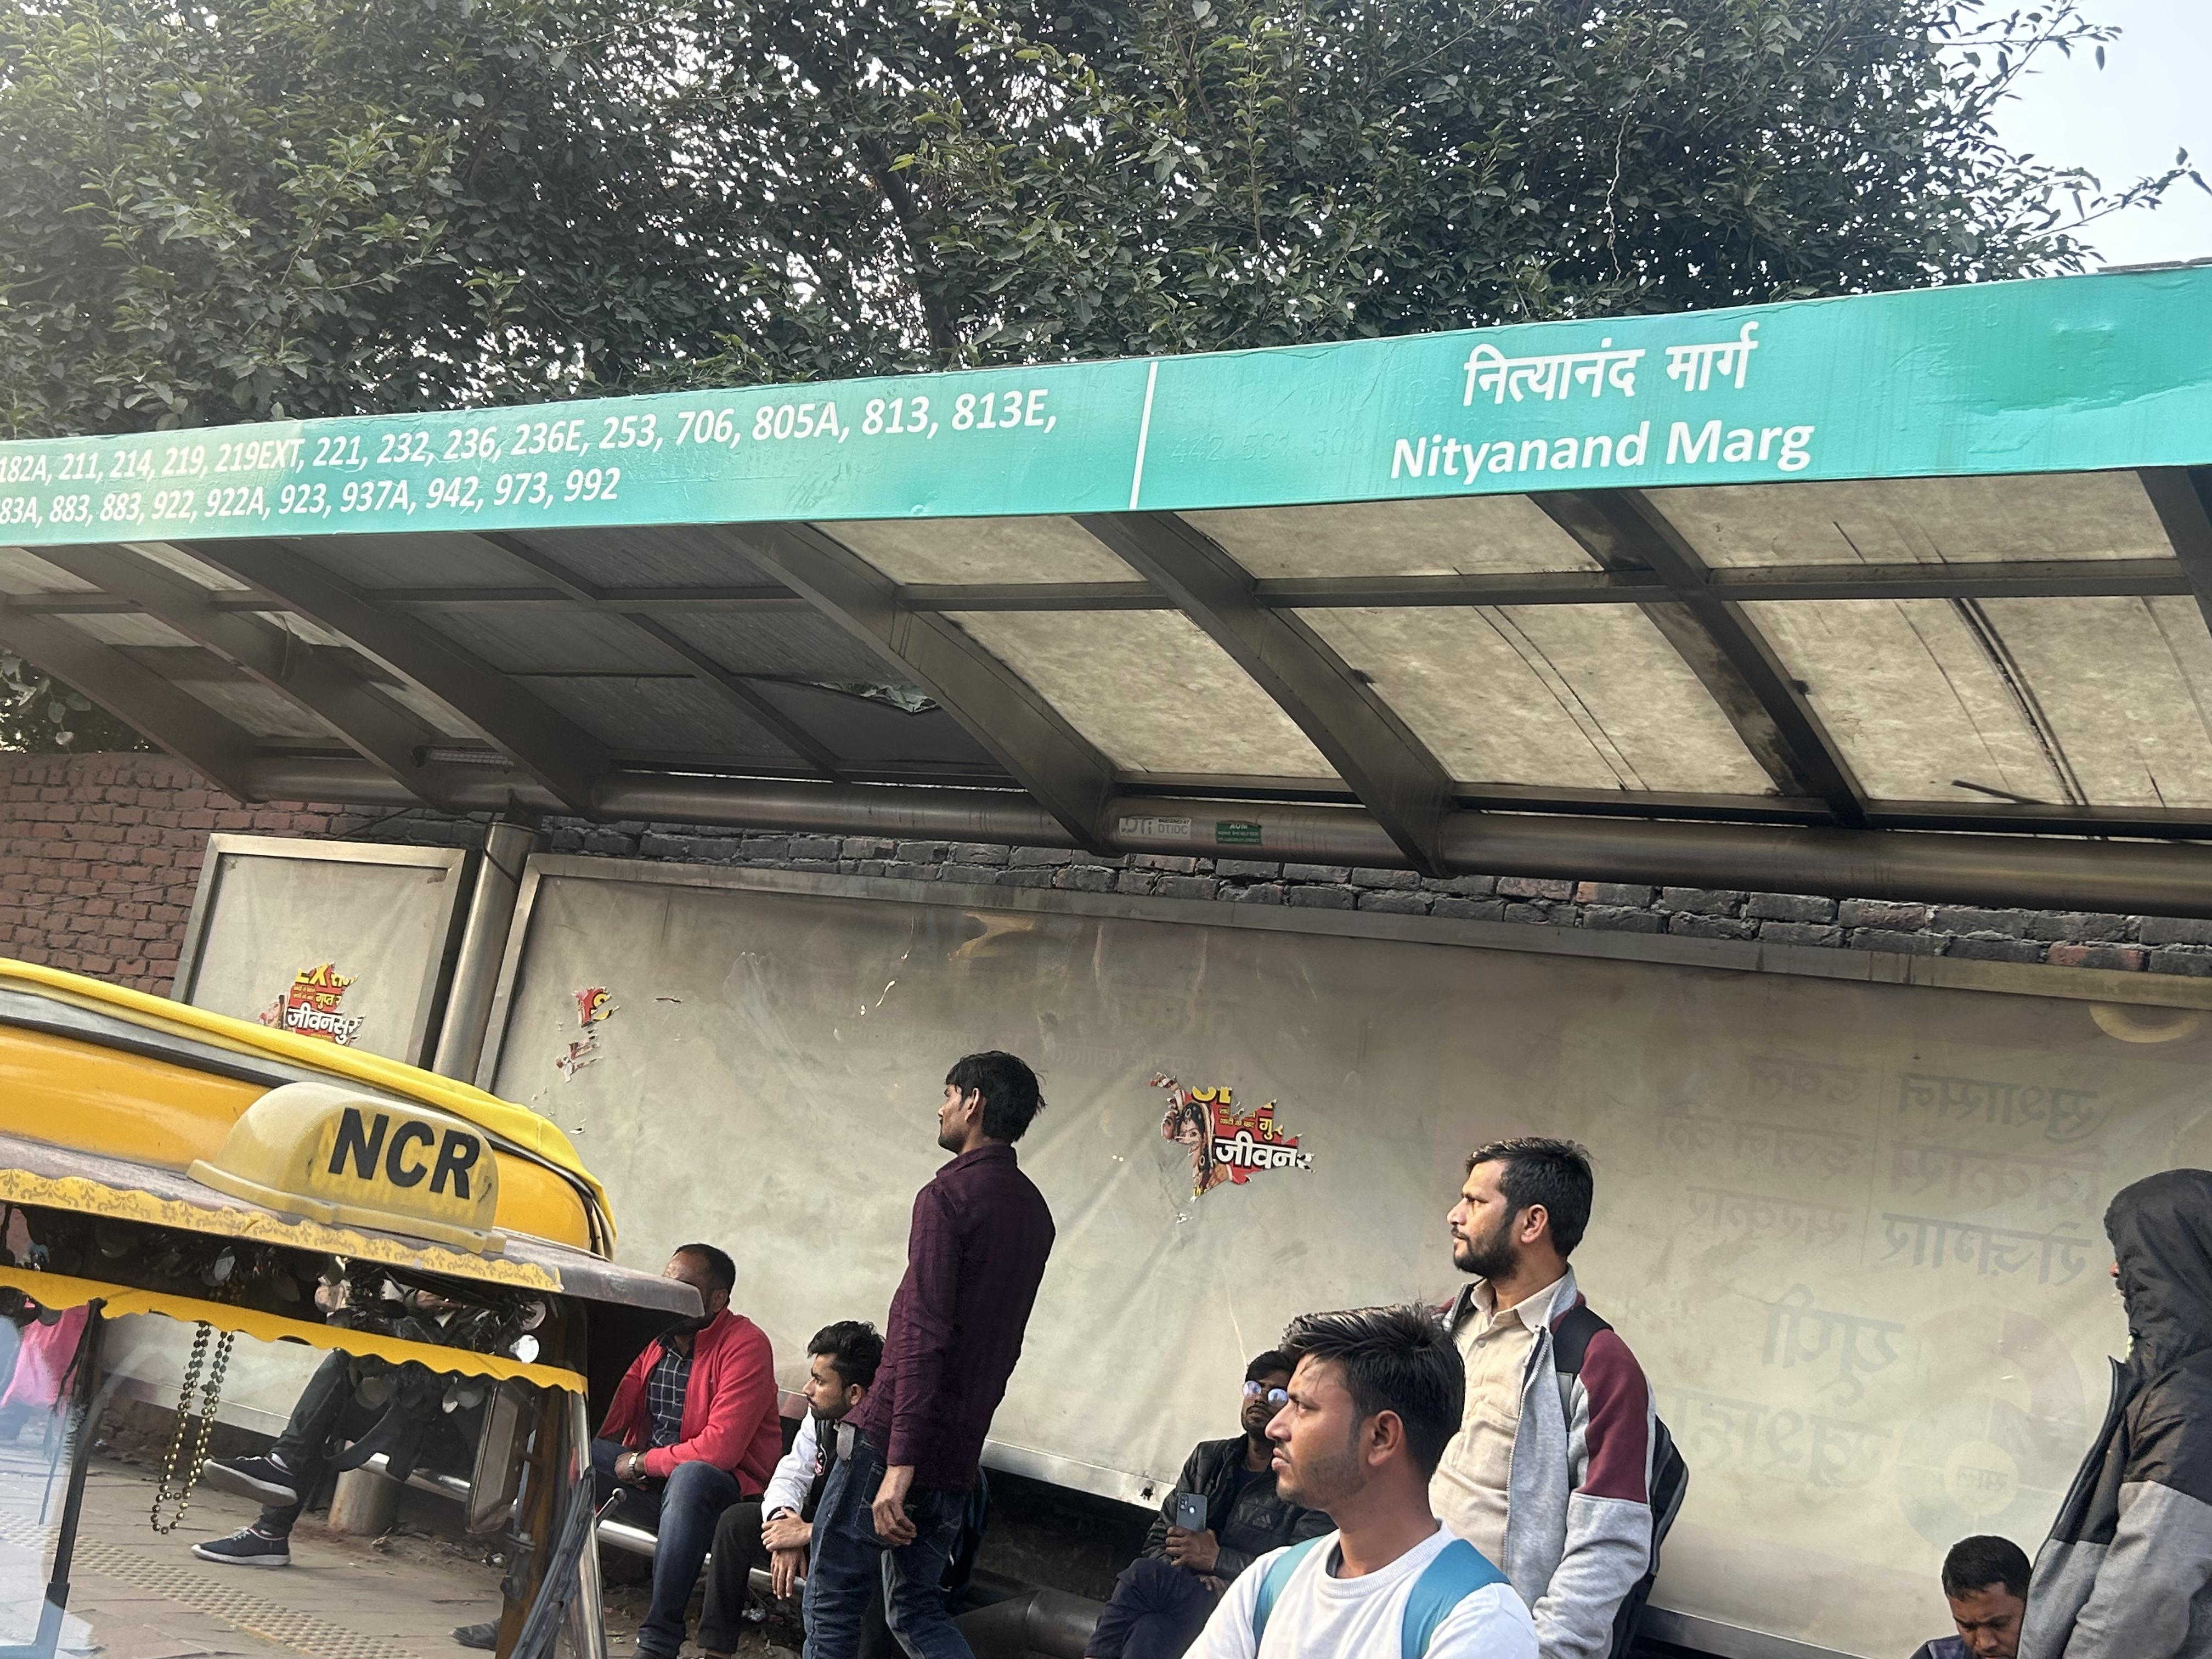Bus-stop-board: (0, 274, 2207, 565)
